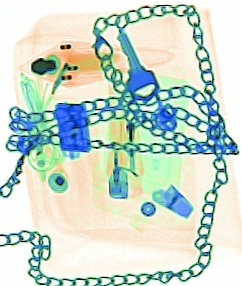lighter: (104, 97, 143, 199)
